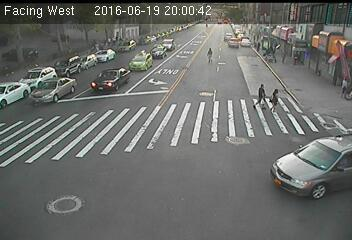neg: (323, 149, 340, 173), (139, 36, 156, 58), (63, 66, 76, 84), (239, 36, 251, 52), (163, 27, 172, 38), (163, 45, 170, 54)
pos: (247, 82, 270, 112), (266, 88, 286, 115), (203, 44, 218, 64)
